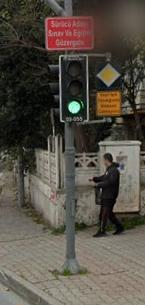greenlight: (61, 54, 88, 123)
